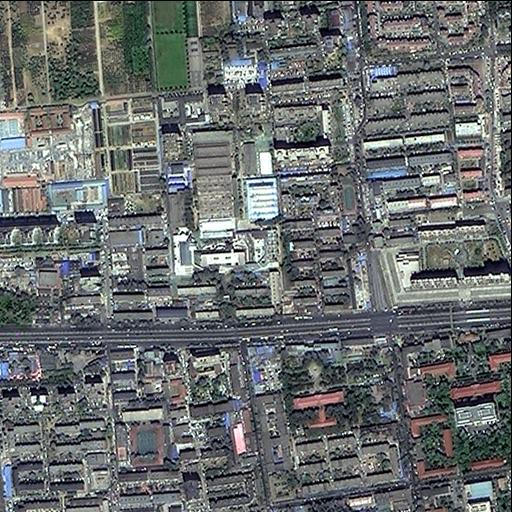school: (116, 403, 176, 470), (337, 165, 364, 245)
